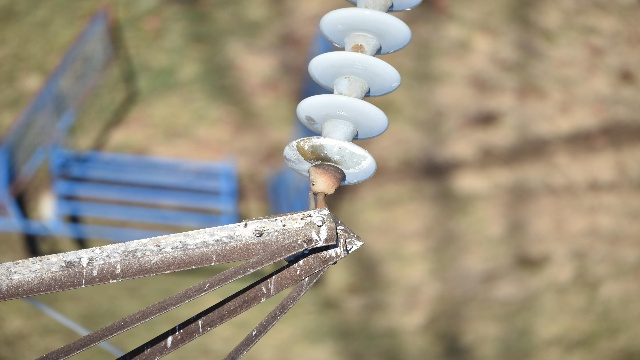insulator_unspecified: (284, 0, 423, 190)
pollution_flashover_local: (290, 134, 367, 176)
